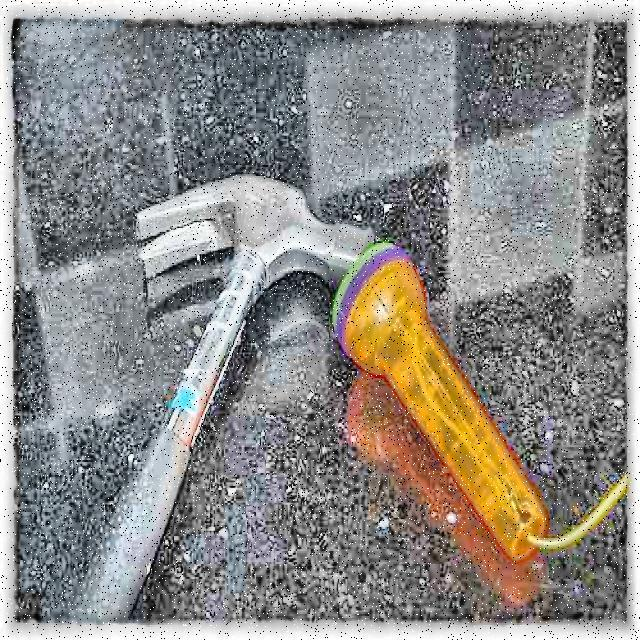hammer: (75, 171, 375, 621)
